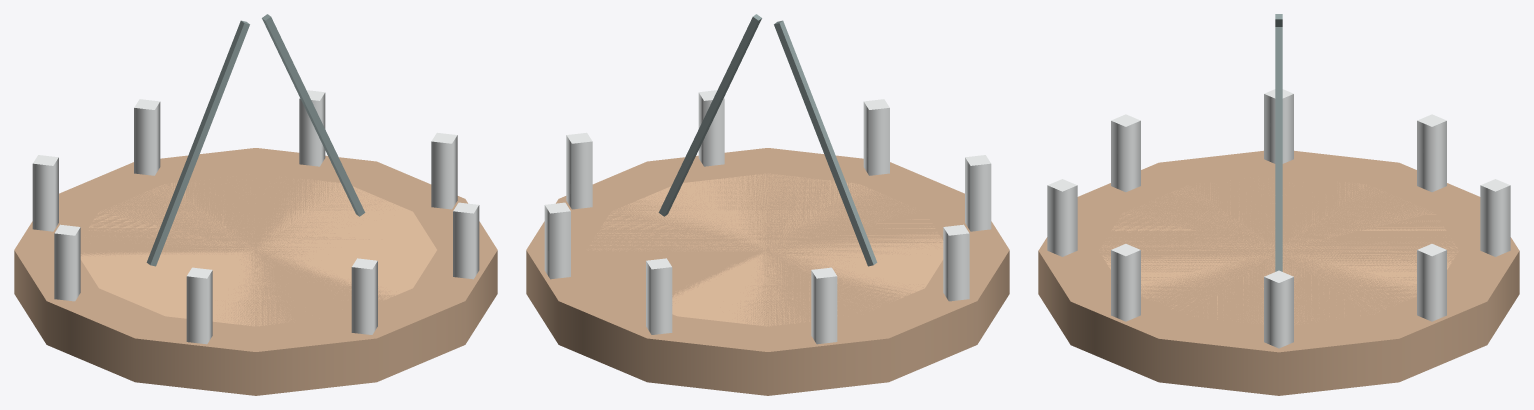
File: chandelierWheel.glb
3 views of the same model, side by side, from view 1: azimuth 30°, elevation 25°; view 2: azimuth 150°, elevation 25°; view 3: azimuth 270°, elevation 25° (orthographic).
Visible parts, largest first — view 1: chandelierWheel; view 2: chandelierWheel; view 3: chandelierWheel.
Boxes of the visible parts, <box> form: chandelierWheel: <box>14,14,497,395</box>; chandelierWheel: <box>526,14,1009,395</box>; chandelierWheel: <box>1038,14,1519,395</box>.
Bounding box in the file's own units: 0.4 × 0.2512 × 0.4.
